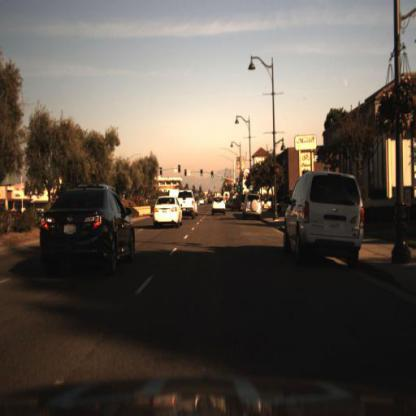car: (39, 183, 138, 279), (284, 167, 366, 260), (154, 197, 183, 228), (241, 193, 266, 221), (243, 193, 264, 222), (179, 190, 198, 218), (212, 195, 227, 218), (167, 188, 184, 200), (232, 196, 244, 211)
